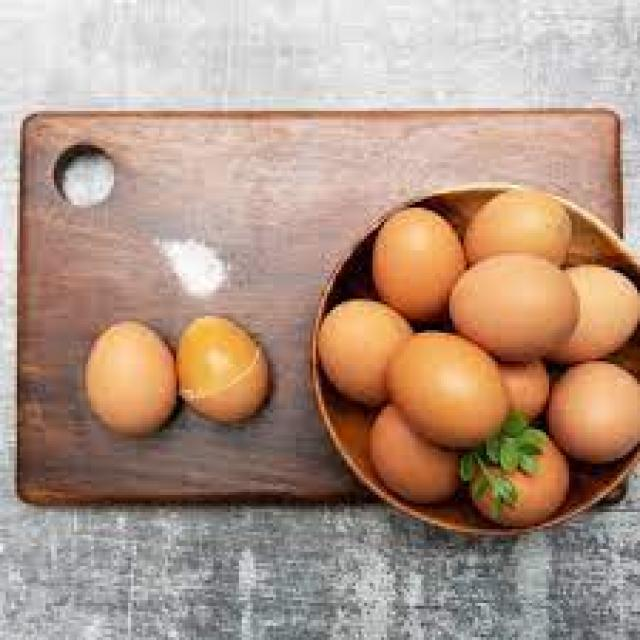Egg: (452, 257, 580, 368), (390, 333, 509, 449), (85, 321, 176, 438), (375, 208, 466, 321)
